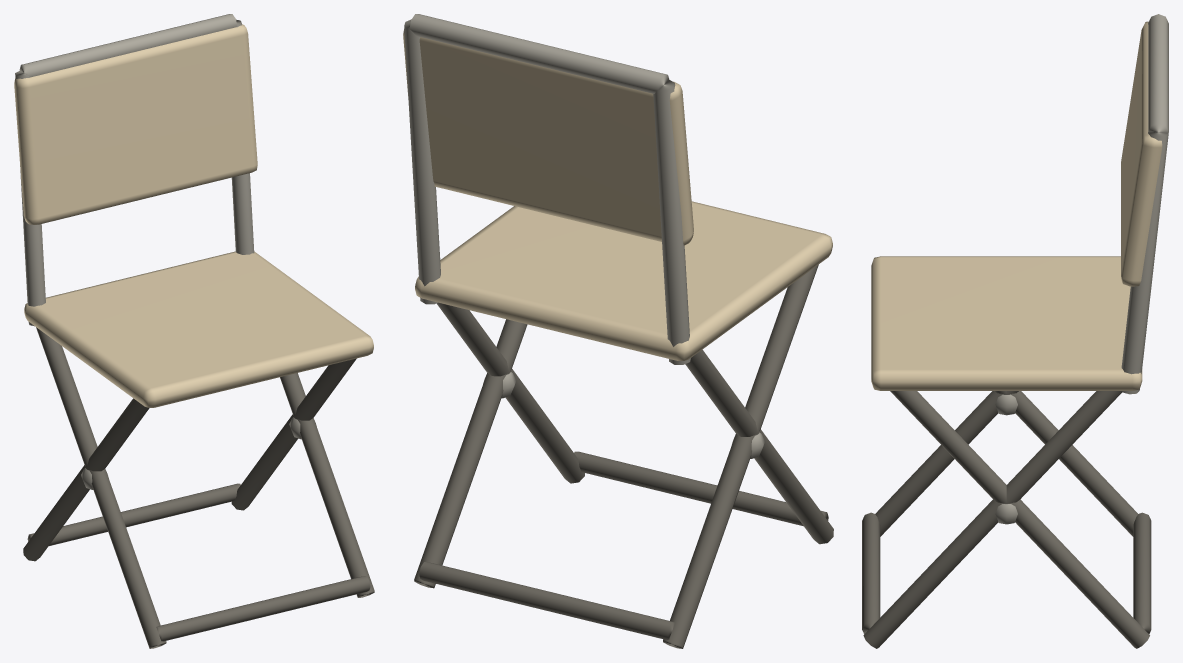
The model's file is folding_chair.glb.
3 renders of one model, left to right at view 1: azimuth 30°, elevation 25°; view 2: azimuth 150°, elevation 25°; view 3: azimuth 270°, elevation 25°, orthographic. The views are drawn at different scales.
Parts seen in each view (by area): view 1: Chair; view 2: Chair; view 3: Chair.
Boxes of the visible parts, x1,y1,x2,y2 form: Chair: (14,14,374,648); Chair: (403,14,833,648); Chair: (862,14,1168,648).
Bounding box in the file's own units: 0.448 × 0.8965 × 0.475.
